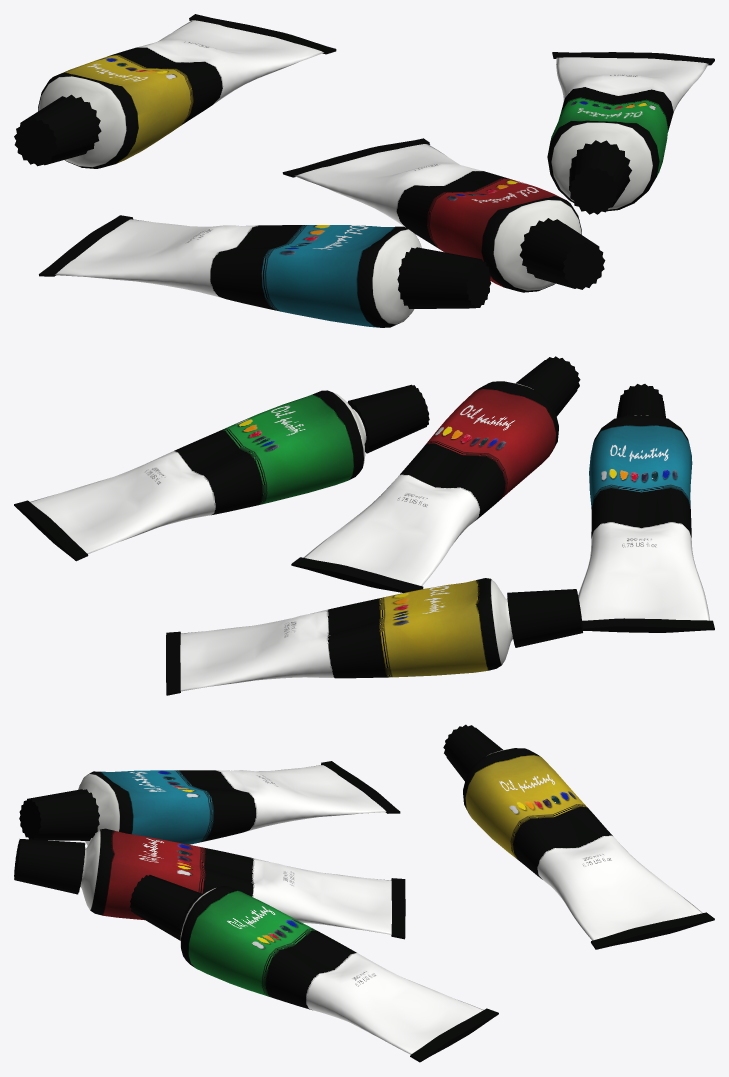
File: Oil painting tubes.FBX
The picture shows the model from 3 angles, top to bottom: view 1: azimuth 30°, elevation 25°; view 2: azimuth 150°, elevation 25°; view 3: azimuth 270°, elevation 25°; orthographic projection. The views are drawn at different scales.
Parts seen in each view (by area): view 1: Oil painting tube 3, Oil painting tube 4, Oil painting tube 1, Oil painting tube 2; view 2: Oil painting tube 2, Oil painting tube 4, Oil painting tube 1, Oil painting tube 3; view 3: Oil painting tube 2, Oil painting tube 4, Oil painting tube 3, Oil painting tube 1.
Part boxes in pixels (x1,y1,x2,y2): Oil painting tube 3: (39, 215, 491, 327); Oil painting tube 4: (14, 14, 336, 168); Oil painting tube 1: (282, 138, 605, 292); Oil painting tube 2: (547, 52, 714, 214); Oil painting tube 2: (14, 384, 429, 561); Oil painting tube 4: (166, 578, 582, 695); Oil painting tube 1: (291, 356, 580, 592); Oil painting tube 3: (578, 384, 714, 632); Oil painting tube 2: (130, 875, 498, 1062); Oil painting tube 4: (443, 724, 714, 949); Oil painting tube 3: (19, 761, 400, 845); Oil painting tube 1: (14, 828, 405, 939).
Bounding box in the file's own units: 27.53 × 3.44 × 27.25.
4 materials, 4 textured.
